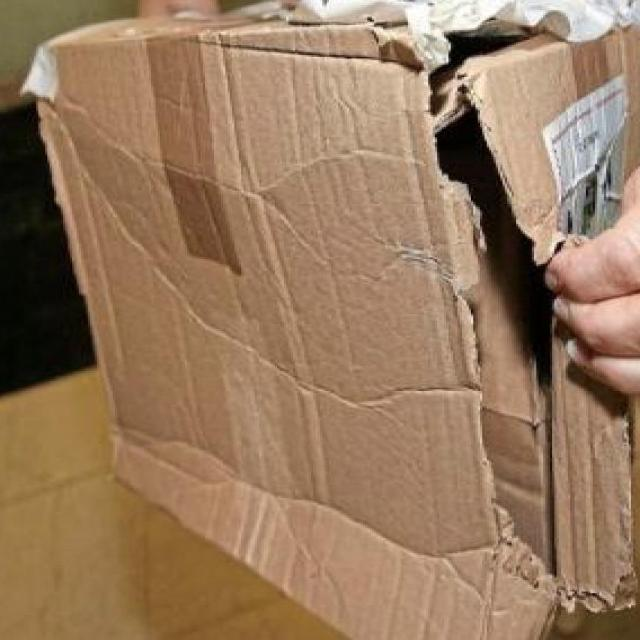damaged: (406, 26, 566, 591)
